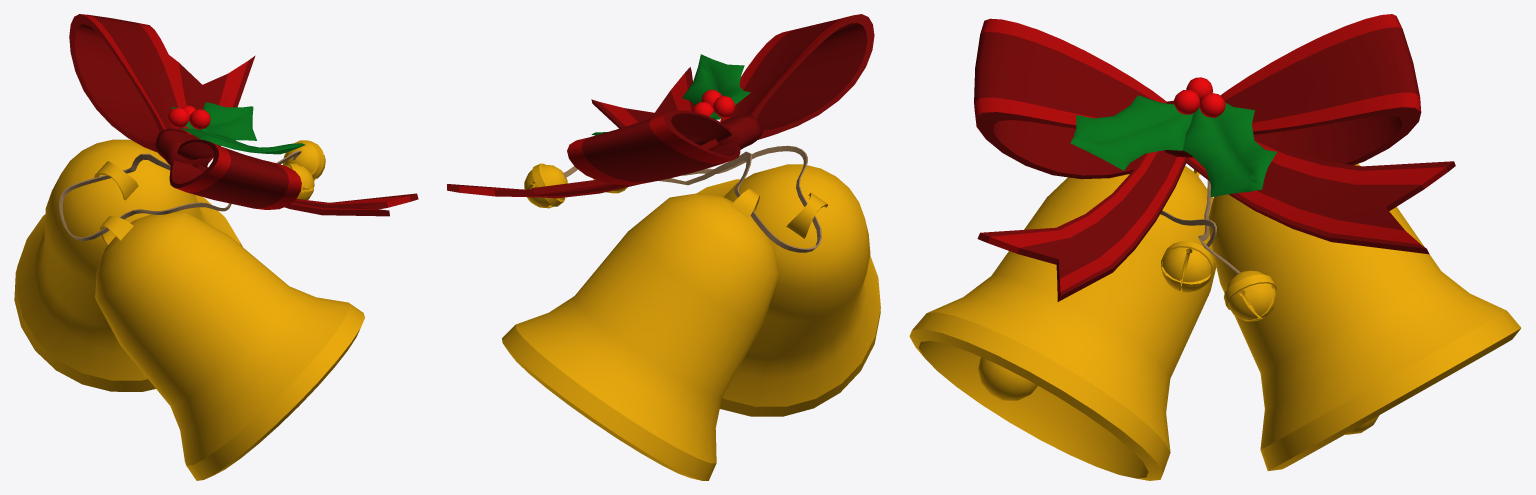
The model's file is decoration_bells_ornaments.fbx.
3 views of the same model, side by side, from view 1: azimuth 30°, elevation 25°; view 2: azimuth 150°, elevation 25°; view 3: azimuth 270°, elevation 25° (orthographic). The views are drawn at different scales.
Parts seen in each view (by area): view 1: decoration_bells_ornaments; view 2: decoration_bells_ornaments; view 3: decoration_bells_ornaments.
Part boxes in pixels (x1,y1,x2,y2): decoration_bells_ornaments: (14,14,418,480); decoration_bells_ornaments: (447,14,880,480); decoration_bells_ornaments: (909,14,1520,480).
Size of the model in its own units: 20.01 by 24.8 by 30.4.
